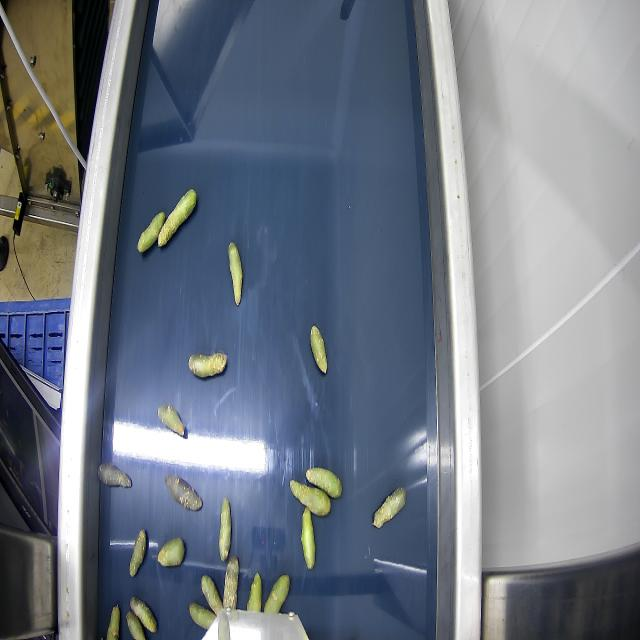Baby Potato: (160, 185, 199, 252), (164, 469, 204, 514), (290, 478, 332, 516), (372, 485, 406, 529), (188, 349, 228, 382), (138, 212, 166, 256), (306, 466, 343, 498), (130, 592, 160, 630), (200, 569, 223, 617), (227, 240, 243, 307), (264, 574, 290, 614), (307, 327, 329, 374), (300, 506, 316, 570), (157, 402, 185, 437), (223, 554, 239, 612), (98, 462, 132, 489), (157, 537, 186, 567), (129, 529, 147, 577), (188, 601, 216, 629), (218, 498, 230, 562), (105, 599, 122, 640), (125, 612, 146, 639)
